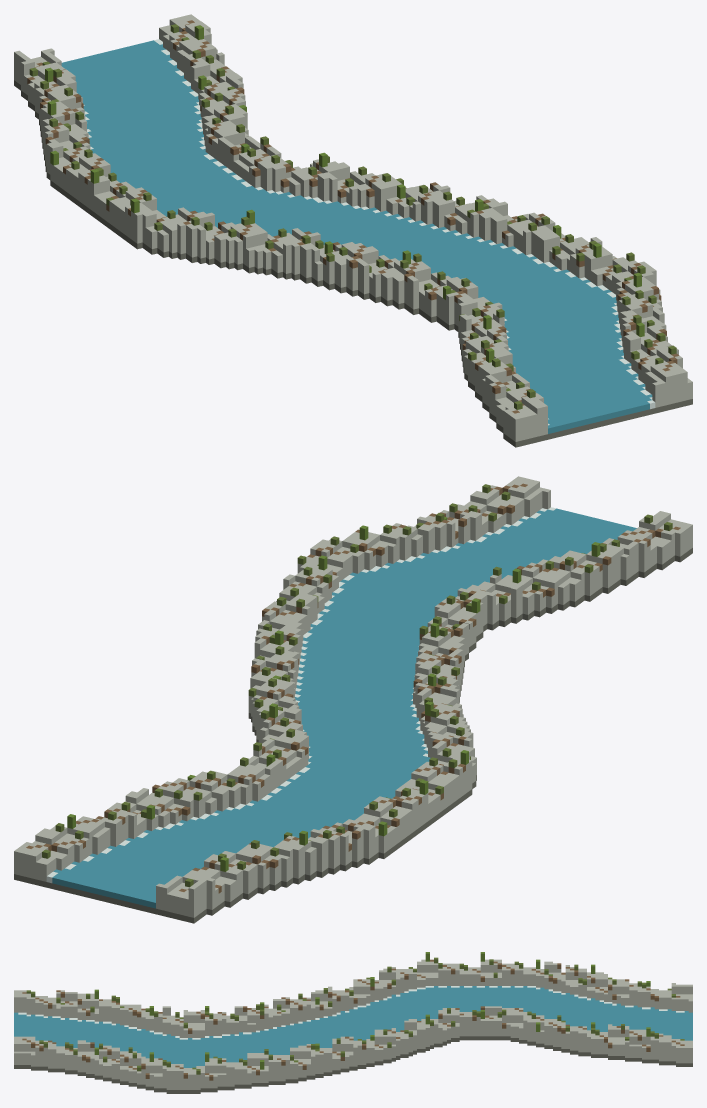
The picture shows the model from 3 angles, top to bottom: view 1: azimuth 30°, elevation 25°; view 2: azimuth 150°, elevation 25°; view 3: azimuth 270°, elevation 25°; orthographic projection. The views are drawn at different scales.
Visible parts, largest first — view 1: 连续共顶点河面母版; view 2: 连续共顶点河面母版; view 3: 连续共顶点河面母版.
Part boxes in pixels (left/top/right/bottom): 连续共顶点河面母版: left=14, top=14, right=692, bottom=447; 连续共顶点河面母版: left=14, top=476, right=692, bottom=923; 连续共顶点河面母版: left=14, top=952, right=692, bottom=1093.
Bounding box in the file's own units: 12.4 × 1.6 × 32.
Materials: 7 (5 with a texture image).
